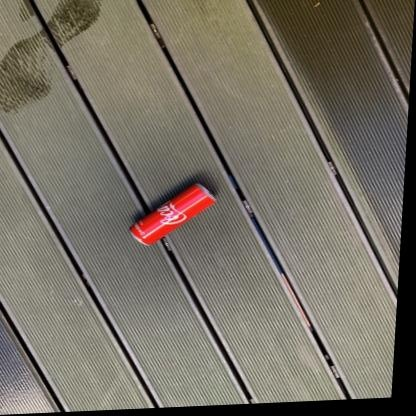trash: (130, 184, 215, 244)
